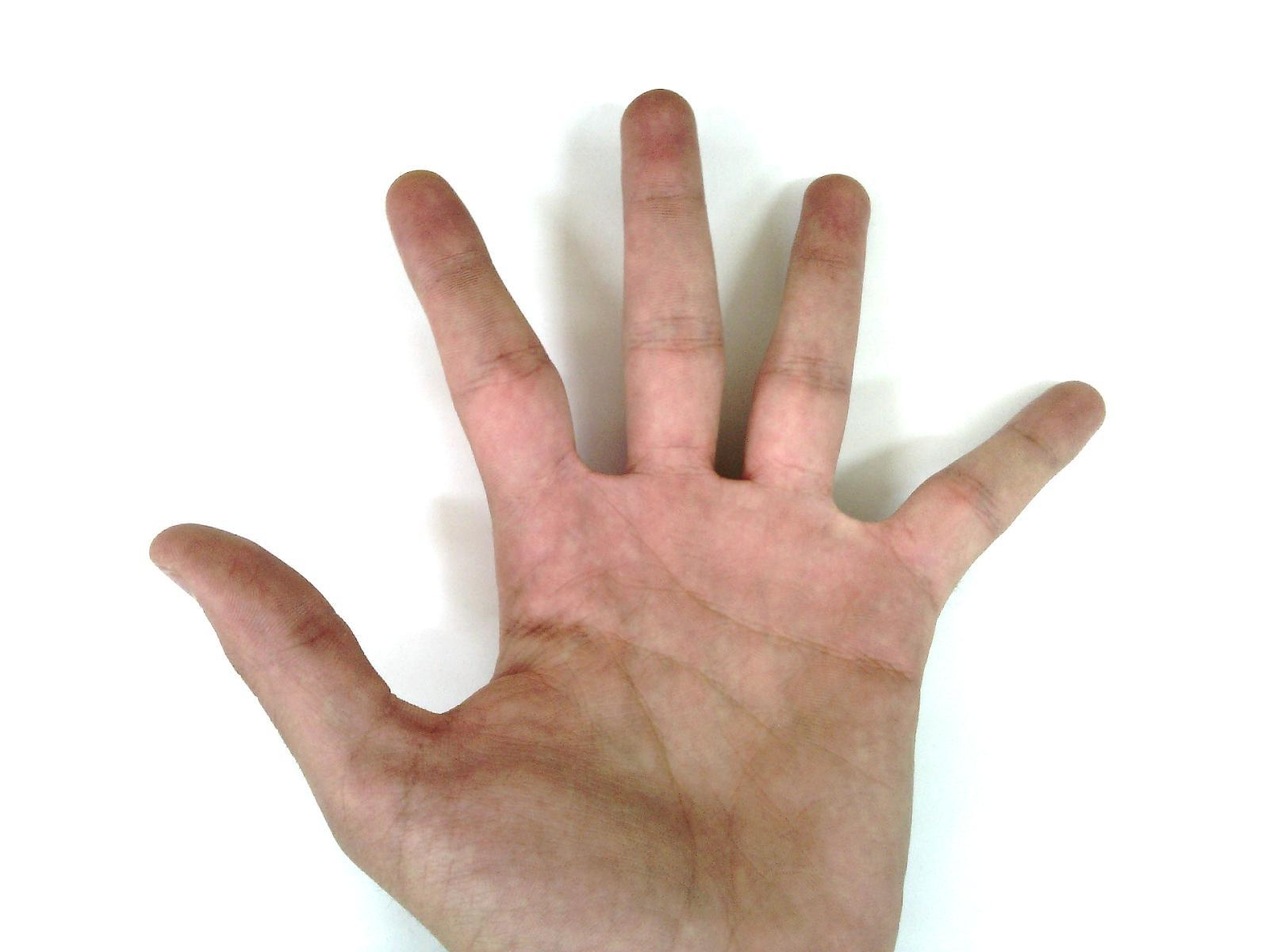open_palm: (148, 86, 1109, 951)
